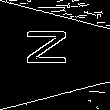N_E: (31, 35, 79, 75)
